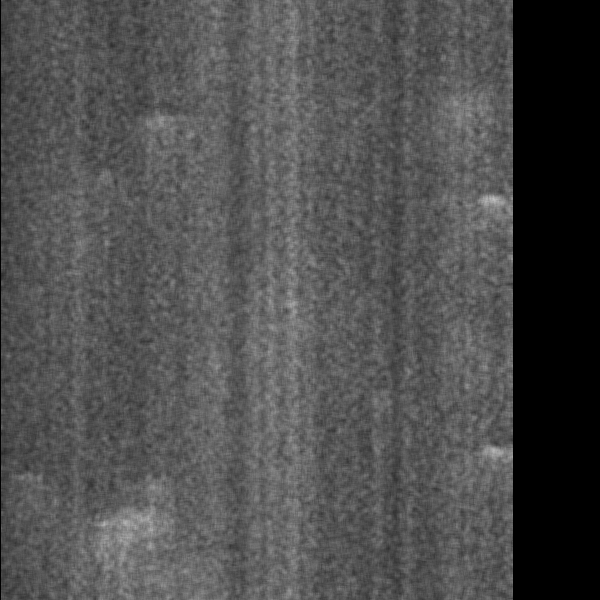spark: (61, 504, 184, 582), (475, 439, 514, 489), (477, 192, 510, 227), (146, 110, 175, 142)
